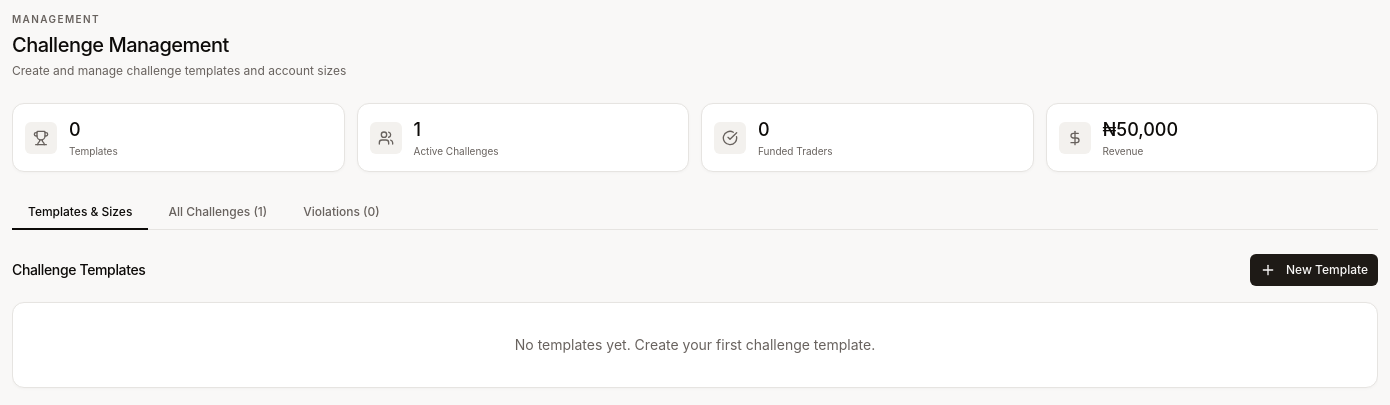
Test: AdminChallenges Page › Challenges Tab › shows challenge table with data
Click the button "All Challenges (1)": (218, 213) [152, 196, 283, 230]
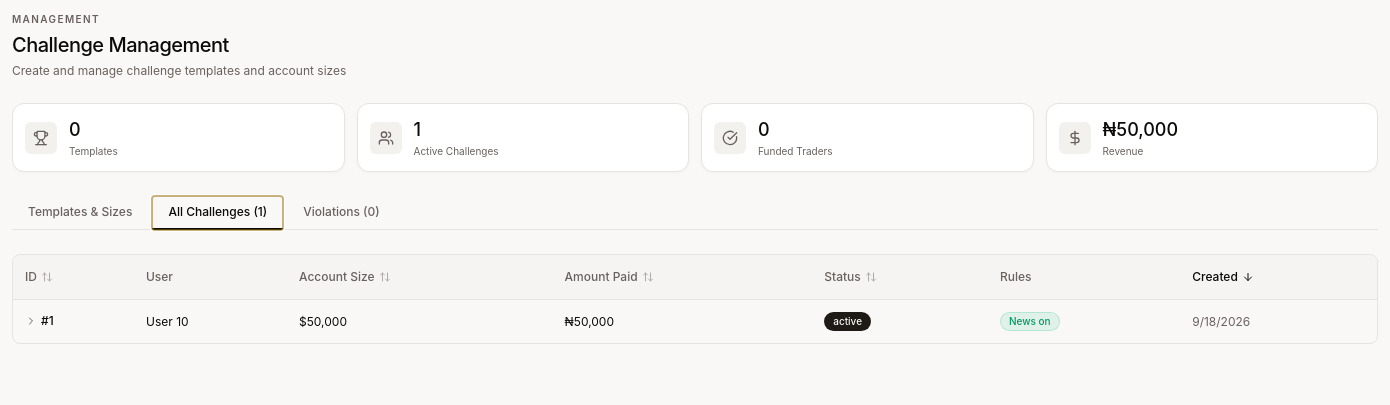
Now the text "#1" is shown, box [25, 313, 54, 329]
Now the text "User 10" is shown, box [134, 300, 287, 343]
